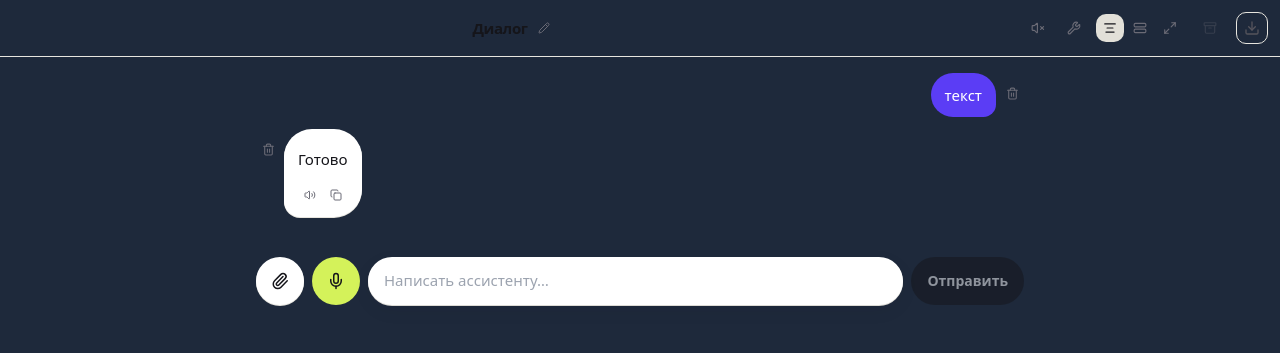
Test: AssistantChat — переключатель технических деталей вызовов инструментов › чипы вызовов инструментов скрыты по умолчанию, переключатель их показывает
Expected: the text "search_base" is not shown
Click the button titled "Показать технические детали вызовов инструментов" at [1074, 28], box top-left (1060, 14), bottom-right (1088, 42)
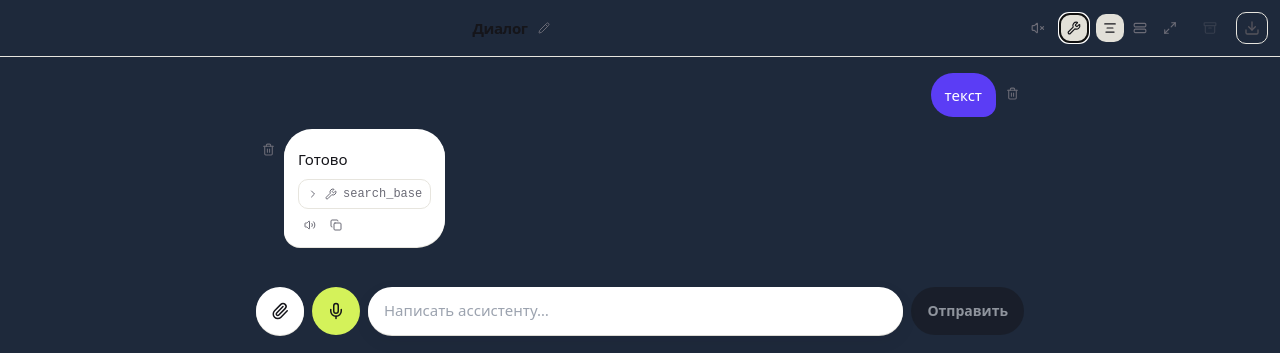
Result: the text "search_base" is shown at top-left (343, 186), bottom-right (422, 202)
